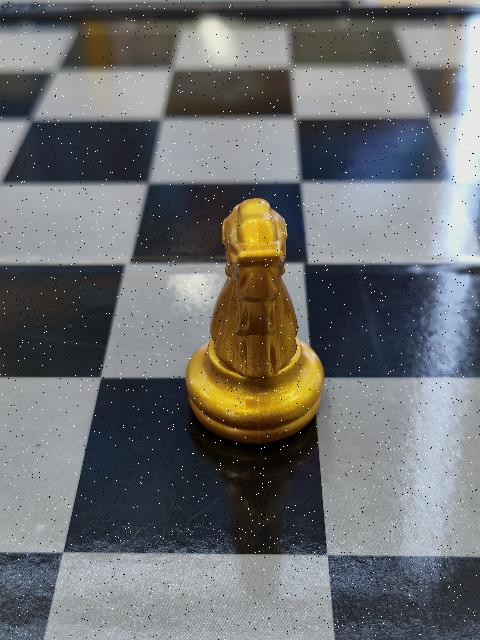black_knight: (186, 199, 324, 438)
